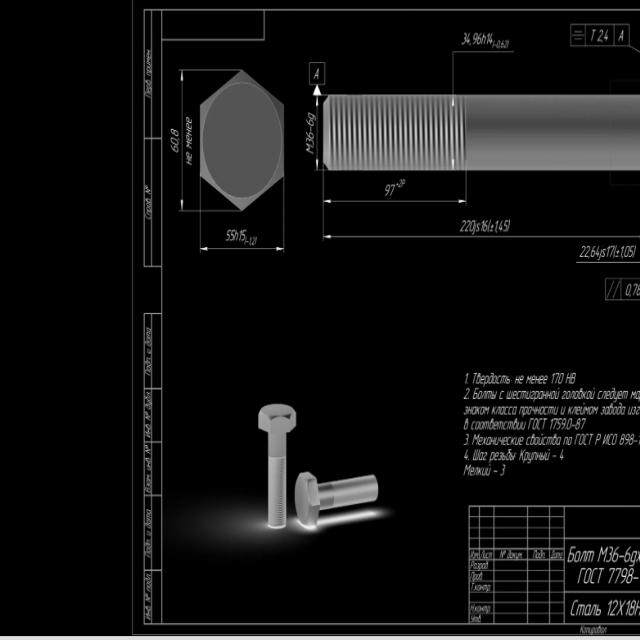marking_line: (322, 171, 635, 244), (321, 171, 467, 205), (199, 211, 286, 254), (178, 69, 200, 212), (311, 96, 321, 170)
numeric: (579, 245, 586, 258), (305, 117, 314, 127), (469, 220, 476, 232), (305, 144, 314, 153), (626, 283, 632, 296), (472, 220, 477, 235), (233, 230, 239, 242), (241, 228, 247, 240), (171, 128, 179, 137), (308, 112, 317, 120), (306, 130, 315, 138), (585, 246, 591, 258), (590, 245, 596, 257), (609, 245, 615, 257), (314, 69, 320, 80), (226, 228, 231, 241), (384, 183, 389, 196), (389, 183, 394, 196), (462, 33, 467, 46), (170, 138, 178, 146), (171, 144, 178, 153), (477, 33, 482, 45), (460, 220, 465, 232), (629, 246, 634, 258), (632, 284, 637, 296), (473, 32, 477, 46), (504, 219, 508, 233), (251, 235, 256, 246), (481, 33, 486, 44), (397, 178, 402, 188), (306, 138, 314, 144), (466, 33, 470, 45), (466, 221, 470, 233), (497, 39, 502, 48), (602, 249, 607, 258), (229, 230, 233, 241), (596, 246, 600, 257), (598, 250, 602, 261), (606, 246, 610, 257), (495, 219, 498, 233), (402, 179, 406, 189), (487, 34, 491, 44), (503, 40, 508, 48), (476, 222, 480, 232), (480, 221, 484, 231), (484, 221, 488, 231), (500, 40, 504, 49), (637, 284, 640, 296), (499, 220, 502, 231), (625, 246, 628, 257), (490, 34, 493, 44), (239, 229, 241, 242), (621, 247, 623, 258)
special_symbol: (507, 218, 511, 233), (487, 218, 491, 231), (491, 41, 497, 48), (490, 224, 494, 233), (615, 249, 619, 257), (469, 44, 472, 47)
